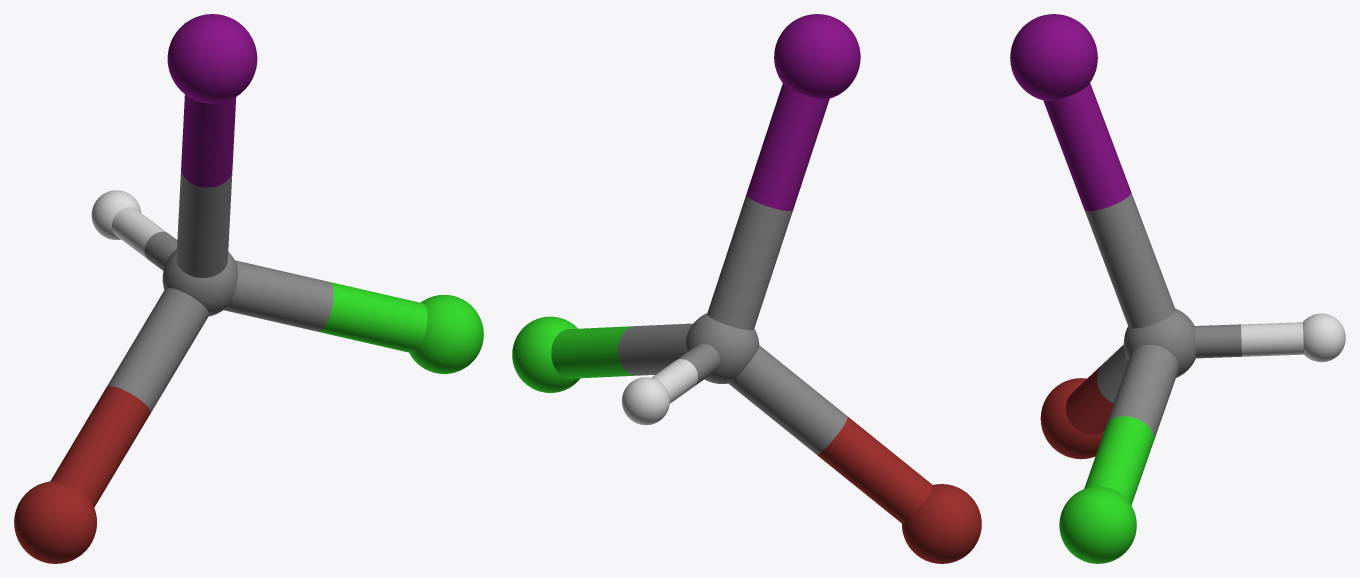
File: SBROMOCHLOROIODOMETHANE.MOL2.glb
3 views of the same model, side by side, from view 1: azimuth 30°, elevation 25°; view 2: azimuth 150°, elevation 25°; view 3: azimuth 270°, elevation 25° (orthographic). The views are drawn at different scales.
Size of the model in its own units: 3.57 by 3.77 by 2.27.
